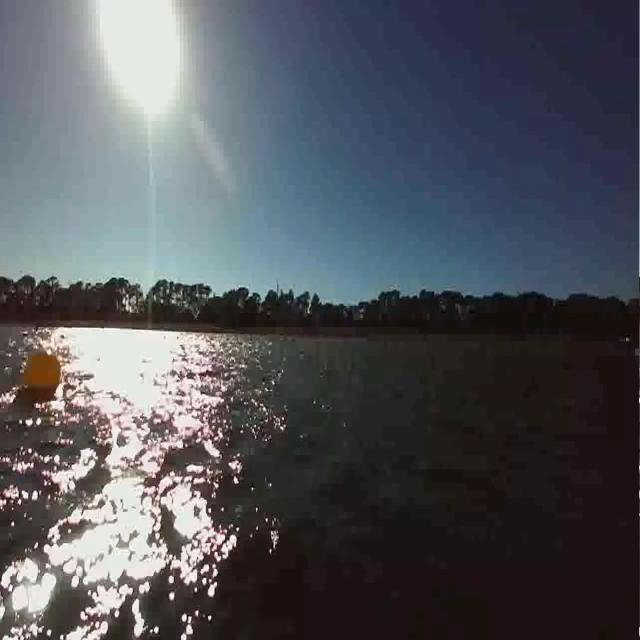yellow-buoy: (26, 351, 61, 394)
